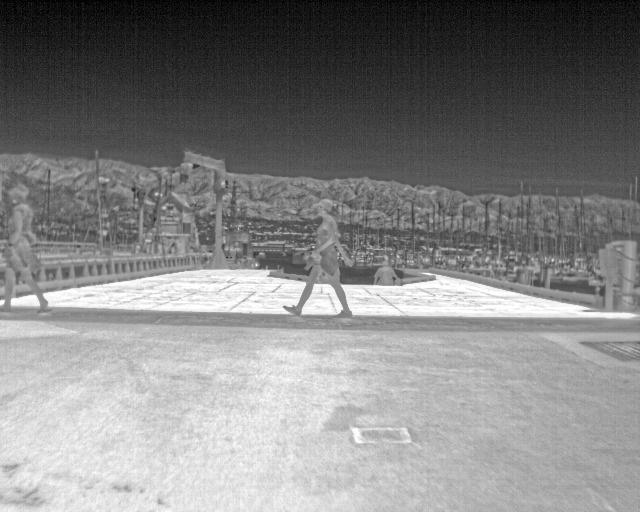empty: (278, 197, 354, 317), (0, 205, 50, 308), (370, 260, 402, 288)
